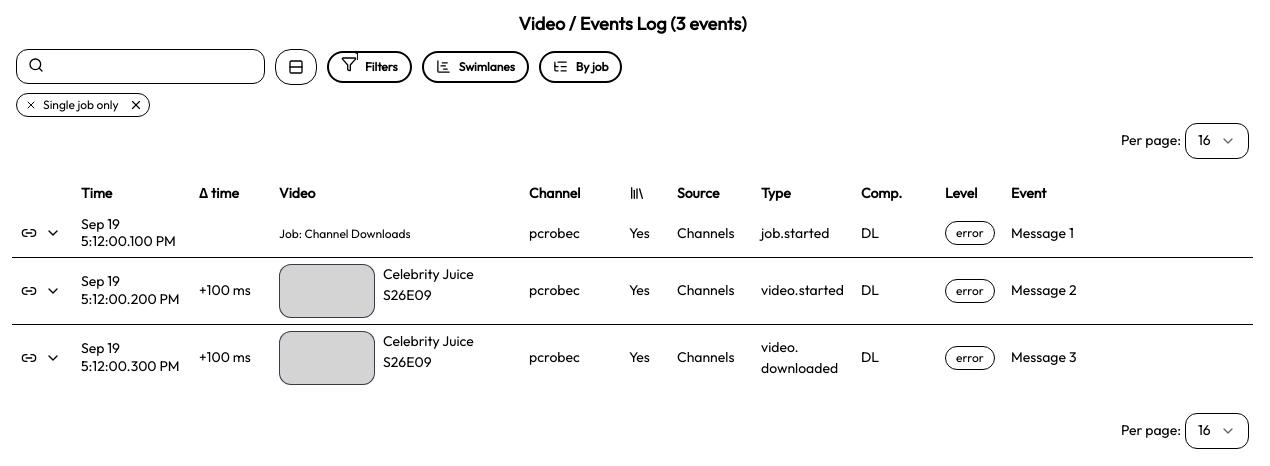
Test: EventLog page › optional log views › groups the events by job when switched on
The width and height of the screenshot is (1270, 466).
Click the button "By job" at [581, 67], box [539, 51, 622, 83]
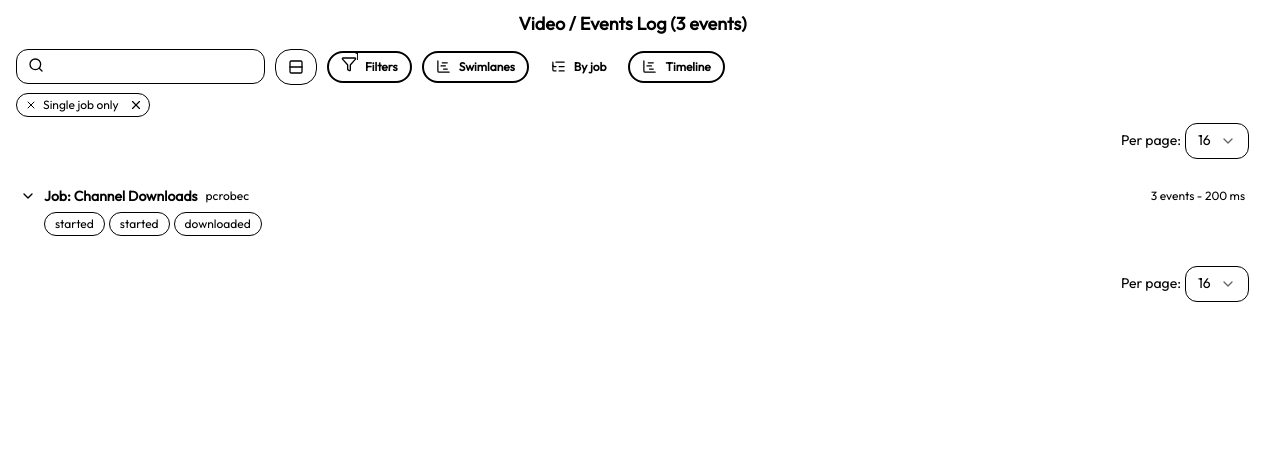
Check: the number of elements with test id "event-group" is 1, box [12, 177, 1253, 244]
